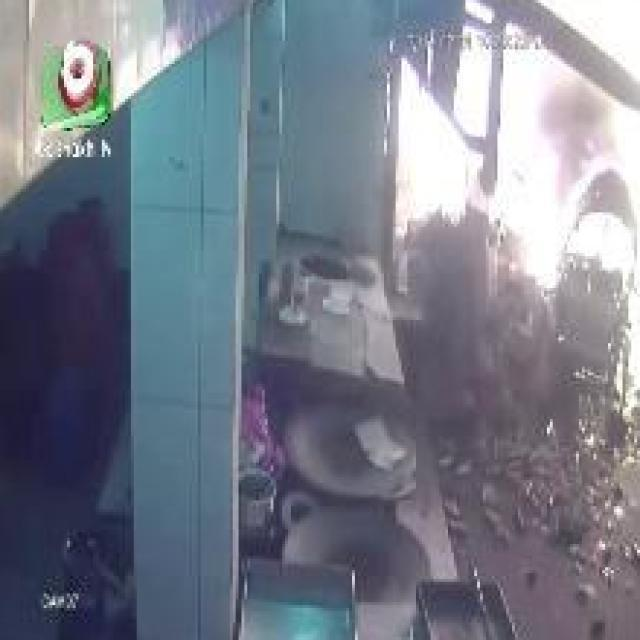smoke: (398, 26, 600, 311), (520, 0, 640, 419)
